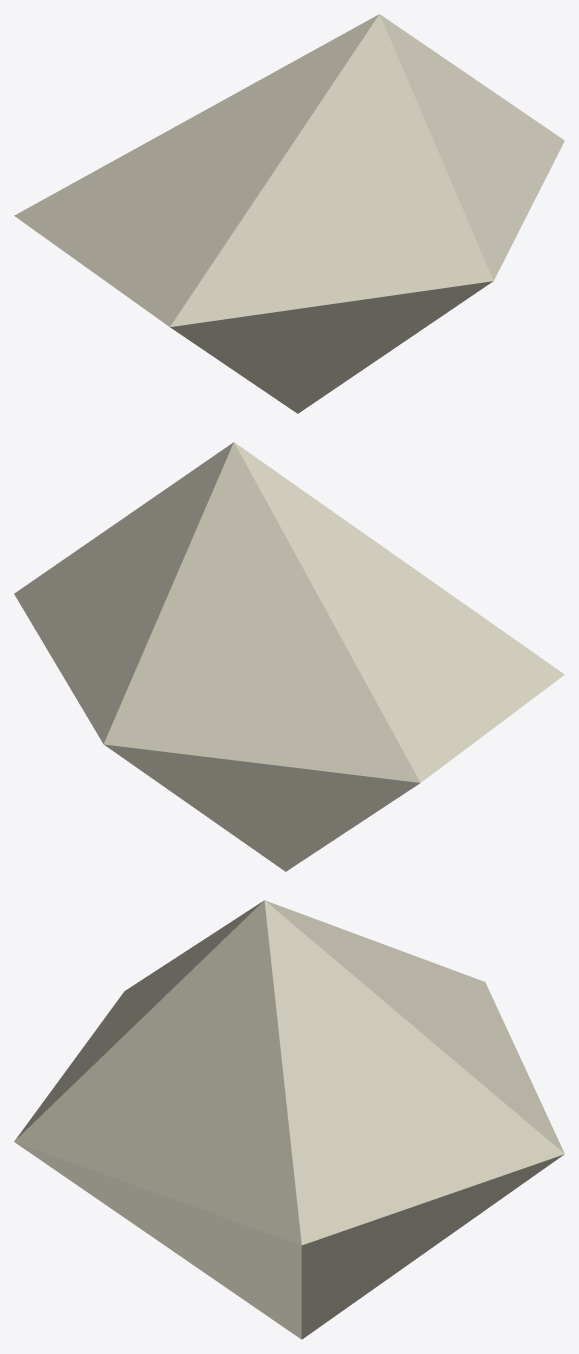
3 views of the same model, one above another, from view 1: azimuth 30°, elevation 25°; view 2: azimuth 150°, elevation 25°; view 3: azimuth 270°, elevation 25° (orthographic). The views are drawn at different scales.
Bounding box in the file's own units: 2.9 × 2.3 × 2.4.
